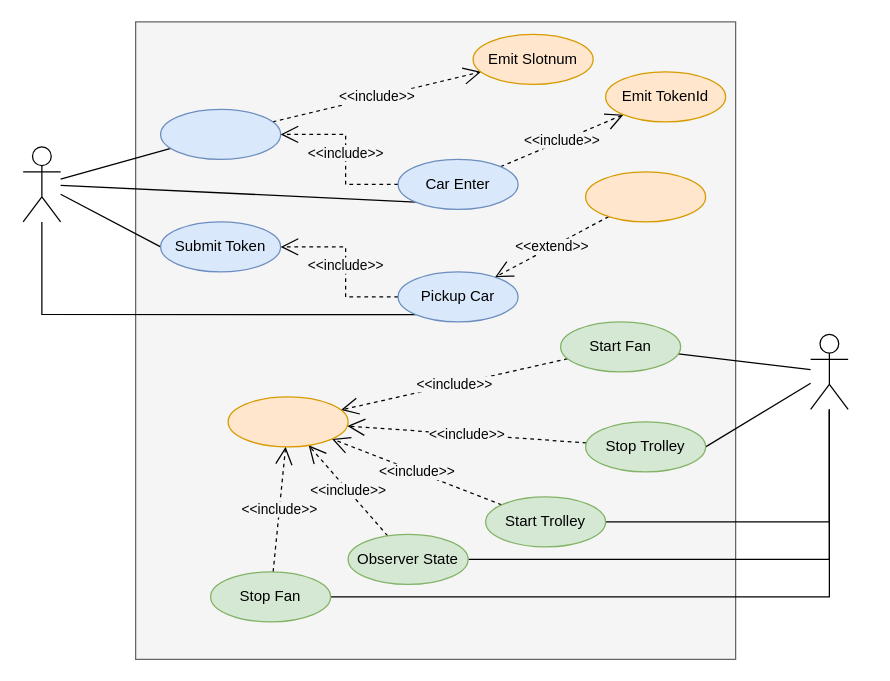
The diagram is 890 pixels wide and 681 high, and some of its shapes have lost their labels. Each missing label, with the centre of its shape:
"Emit Alarm" belongs at point (645, 196).
"Identification" belongs at point (287, 421).
"Manager" belongs at point (828, 371).
"Notify Interest" belongs at point (220, 133).
"User" belongs at point (41, 184).
